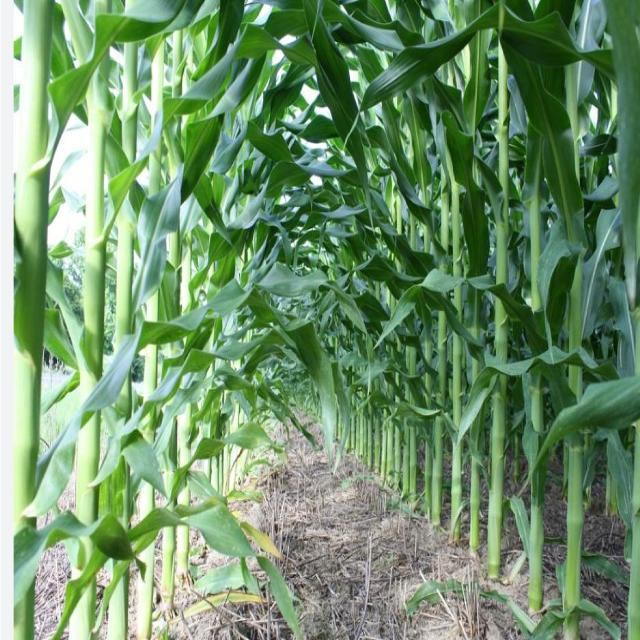row: (168, 401, 543, 640)
